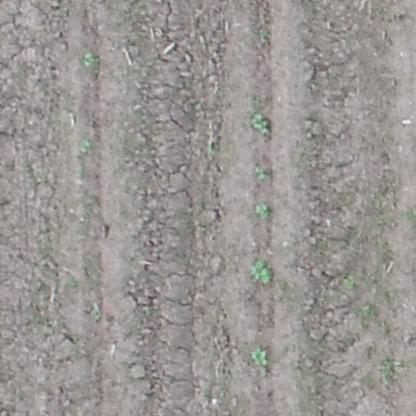vc: (247, 257, 274, 285), (251, 111, 272, 137), (250, 346, 269, 366), (253, 201, 271, 222), (252, 163, 269, 180), (77, 137, 92, 153), (82, 51, 95, 67)
